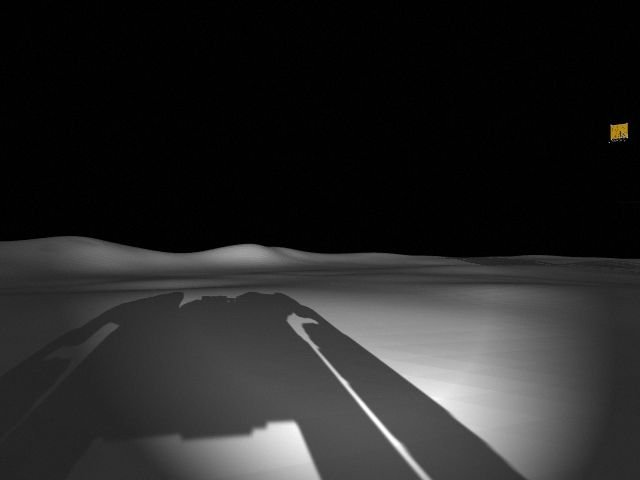cubesat: (602, 120, 634, 142)
